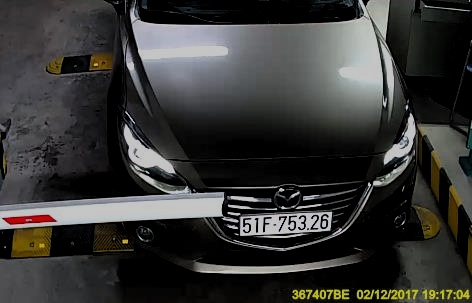plate: (241, 209, 329, 234)
